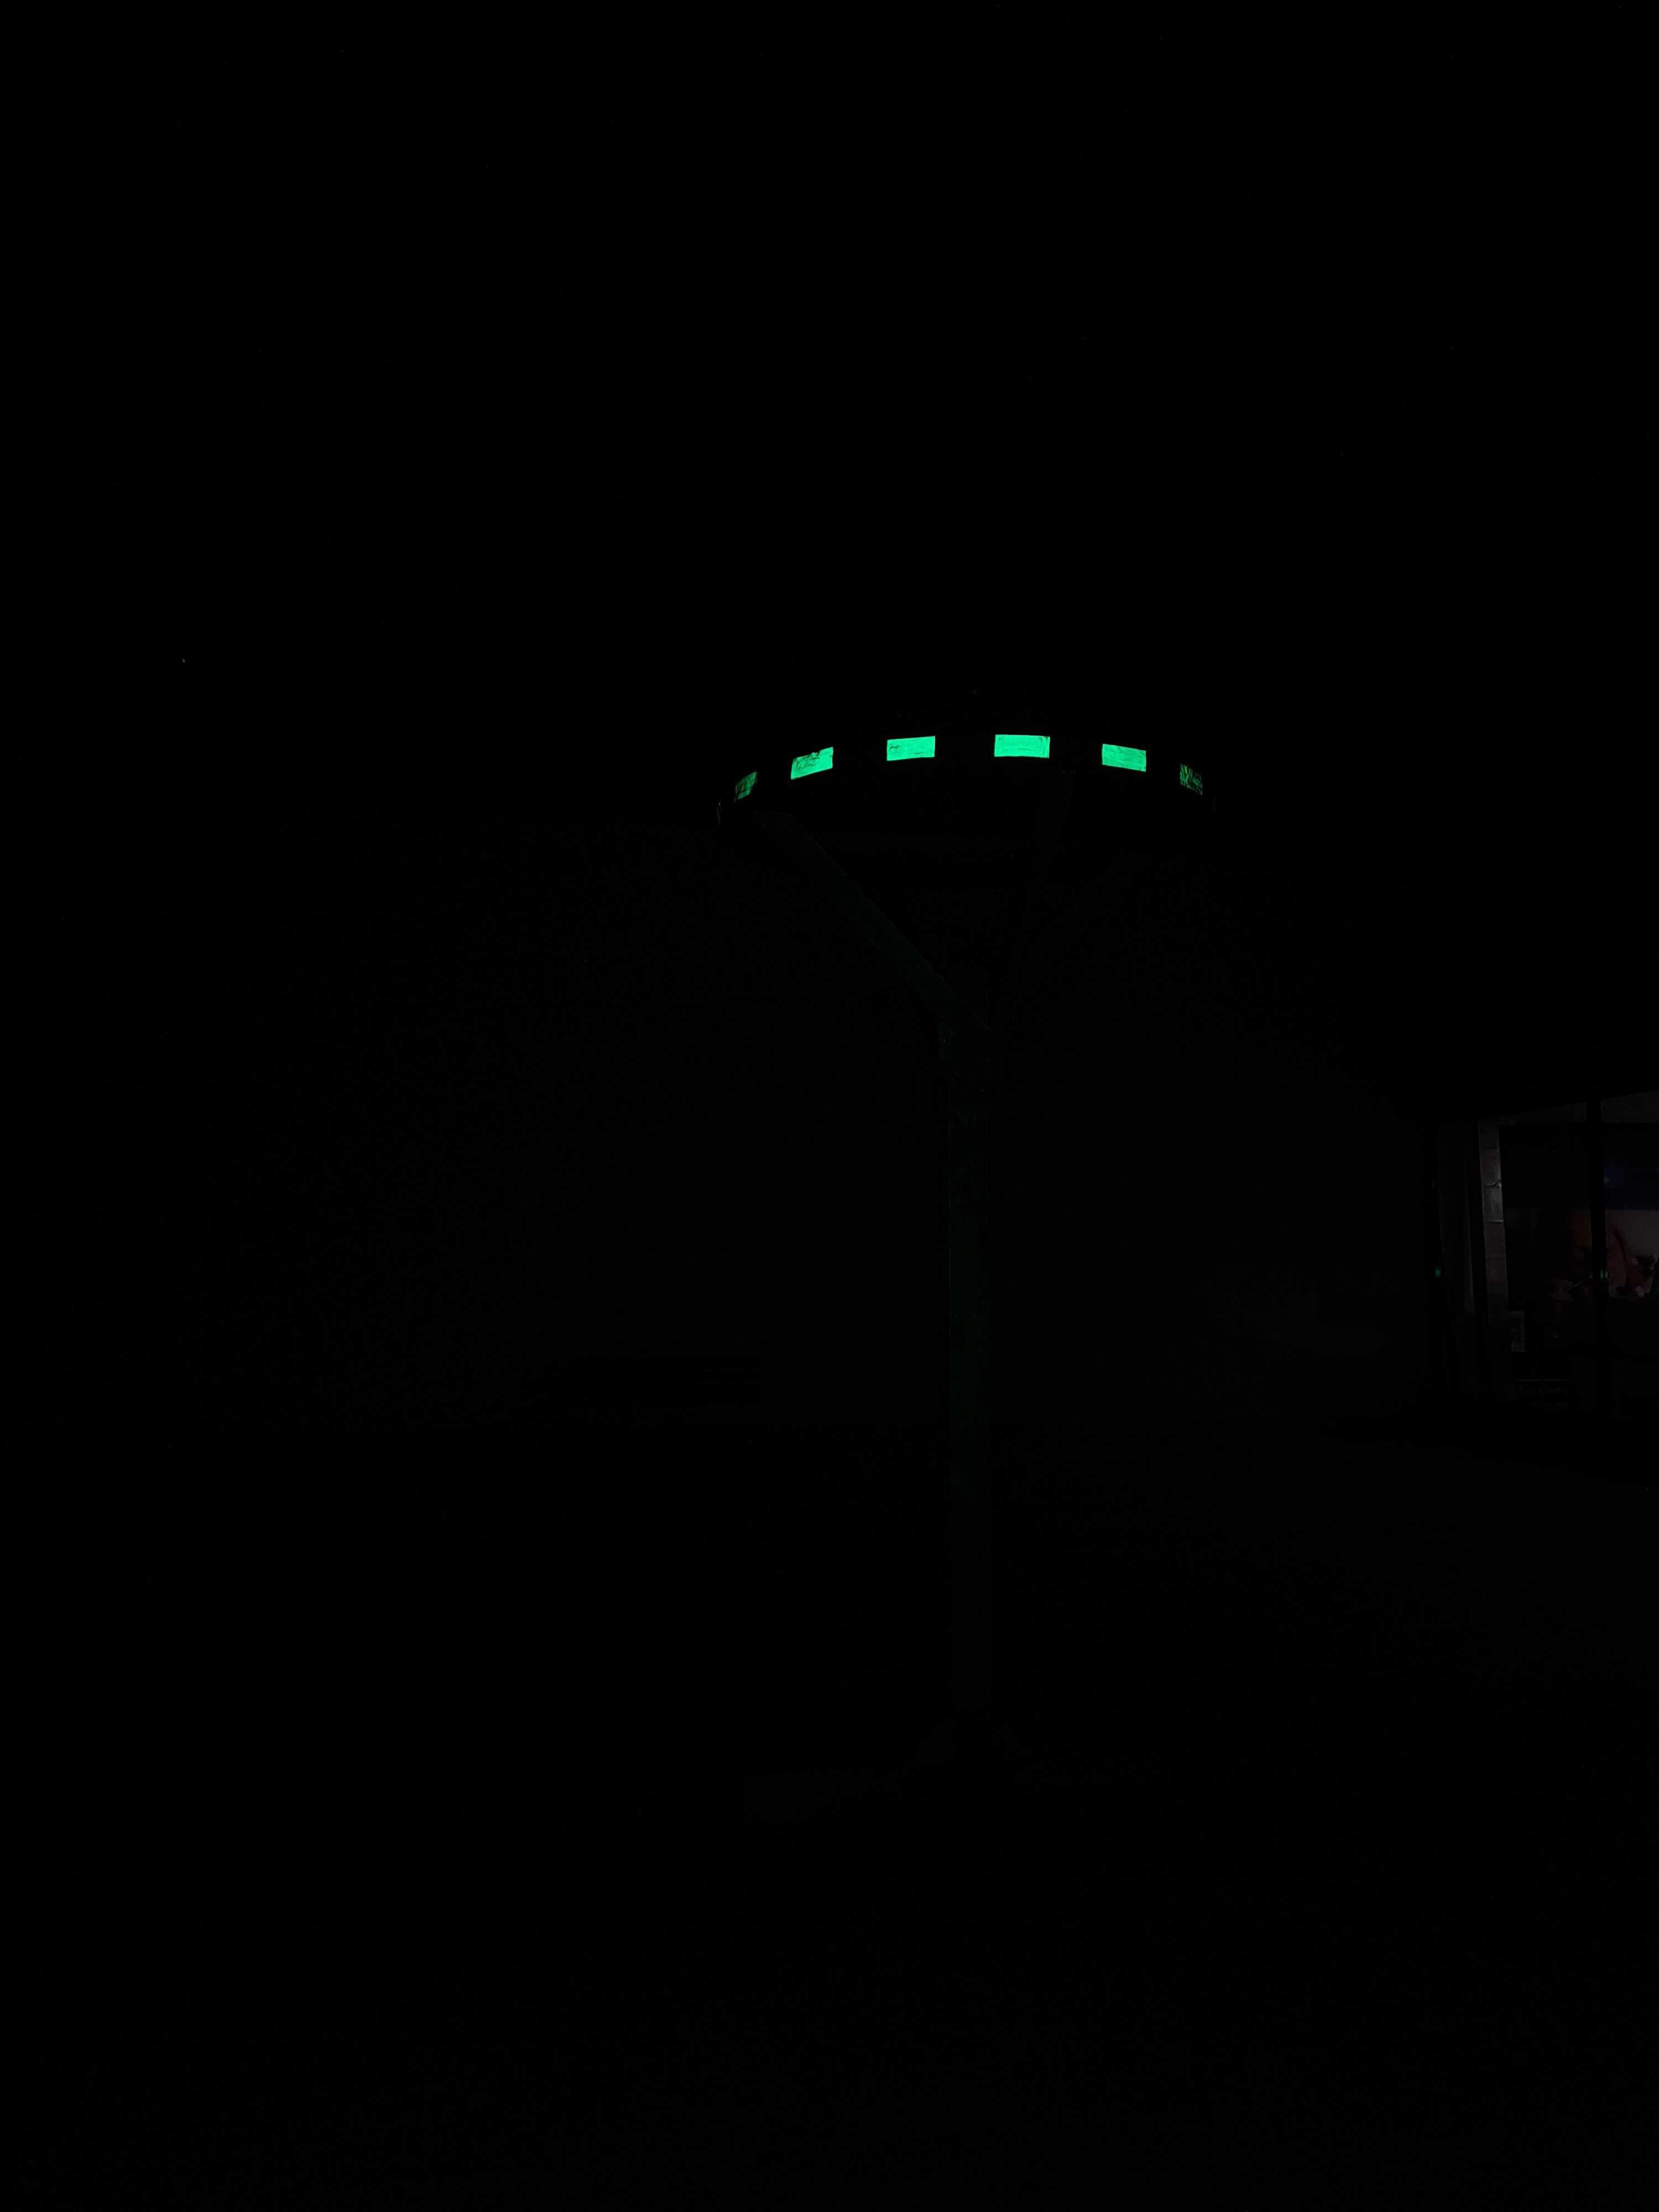hoop: (723, 728, 1209, 810)
